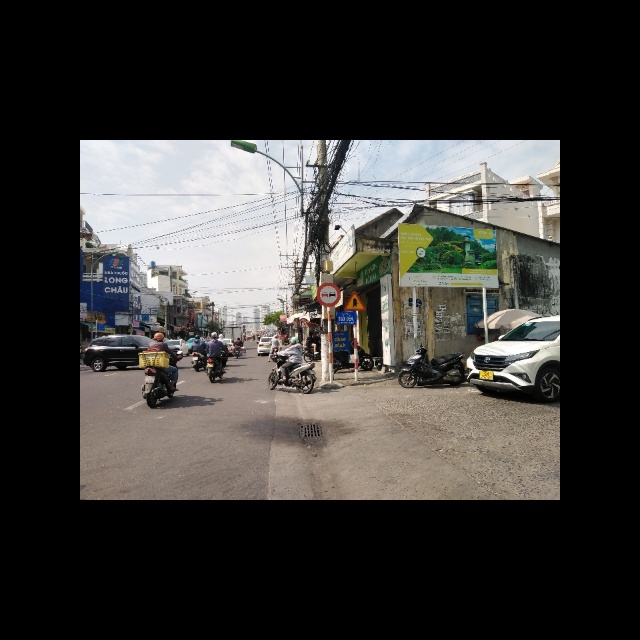Cấm vượt: (316, 282, 341, 306)
Giao nhau với đường không ưu tiên: (344, 289, 366, 312)
